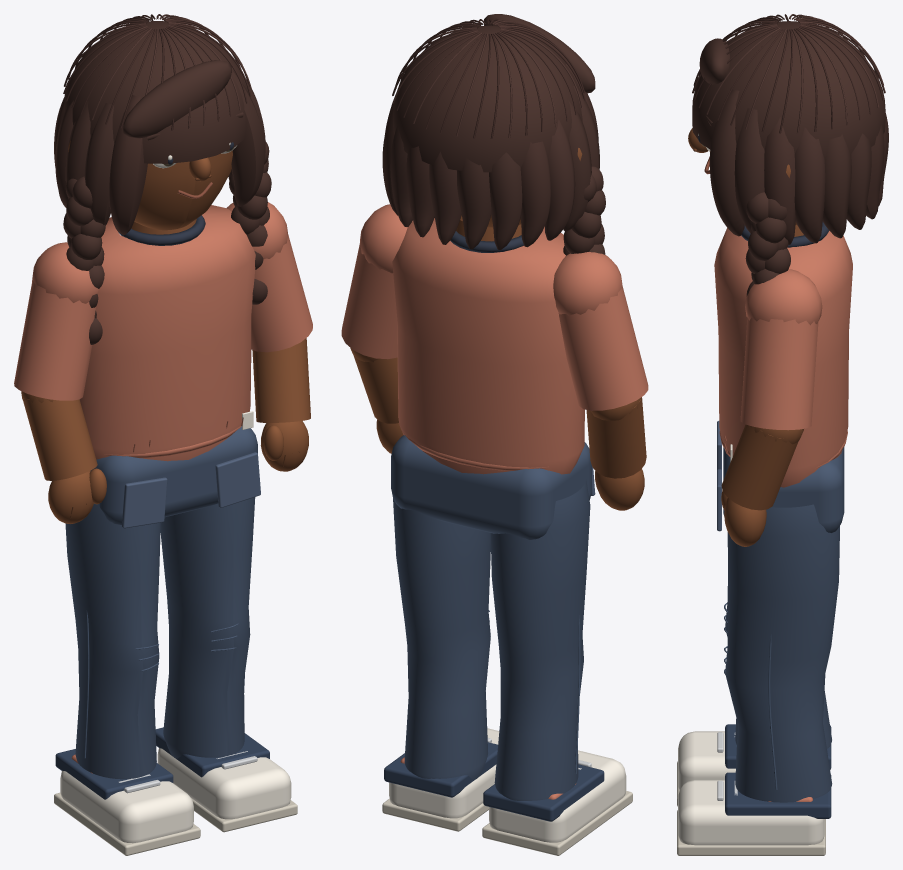
The model's file is compa-sol.glb.
The picture shows the model from 3 angles, left to right: view 1: azimuth 30°, elevation 25°; view 2: azimuth 150°, elevation 25°; view 3: azimuth 270°, elevation 25°; orthographic projection. The views are drawn at different scales.
Parts seen in each view (by area): view 1: body, head; view 2: body, head; view 3: body, head.
Boxes of the visible parts, x1,y1,x2,y2 form: body: (14, 202, 312, 855); head: (54, 14, 271, 344); body: (341, 204, 648, 855); head: (382, 14, 605, 255); body: (677, 221, 852, 855); head: (688, 14, 888, 296).
Bounding box in the file's own units: 0.8052 × 2.05 × 0.4984.
